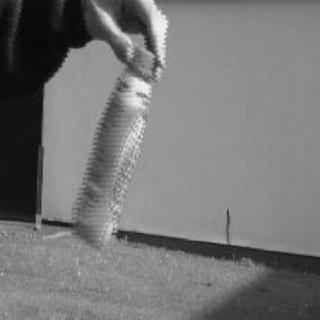other: (65, 38, 161, 252)
